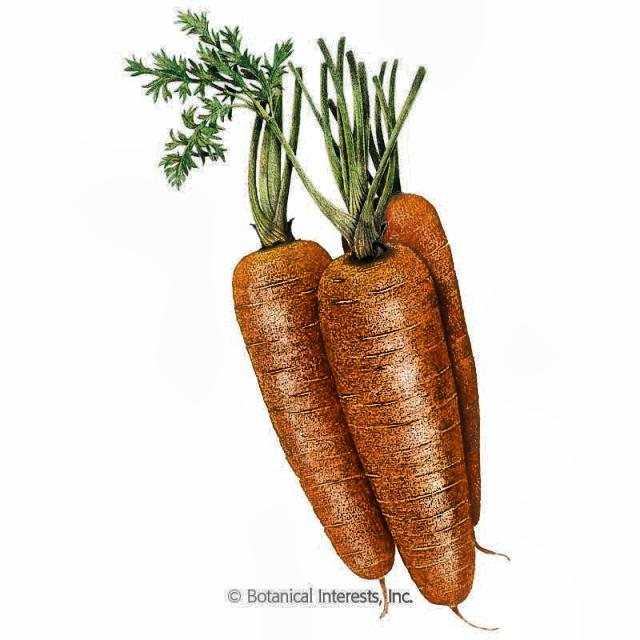carrot: (27, 16, 600, 626)
